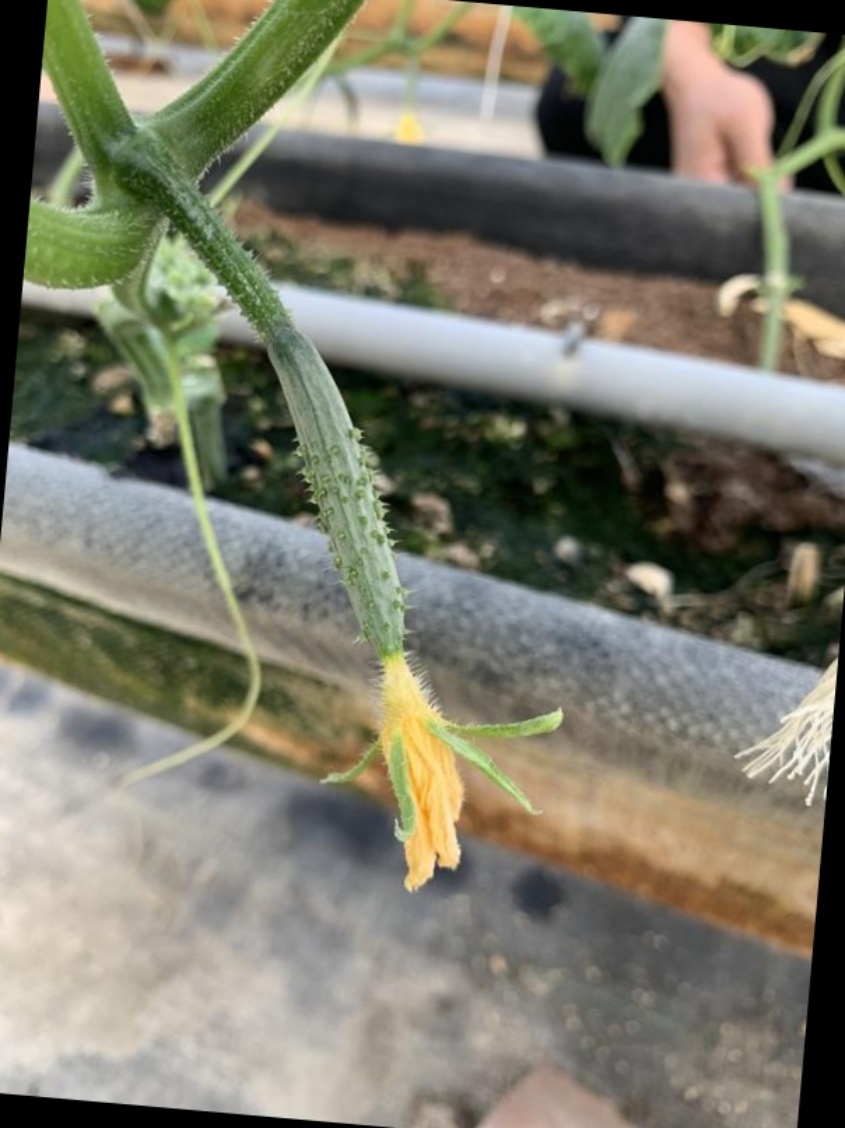bear: (173, 274, 570, 911)
